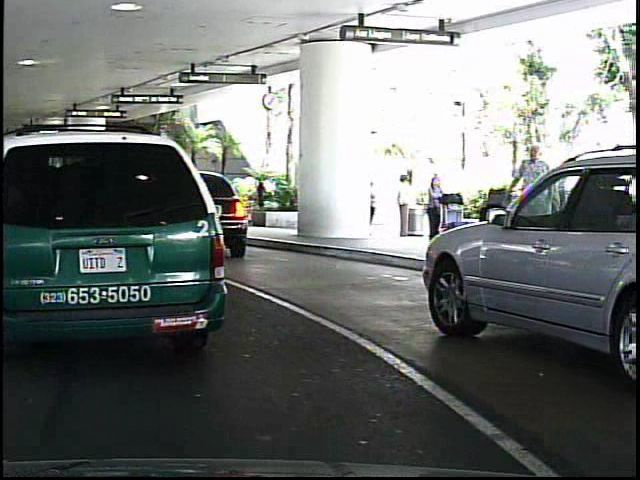person: (501, 135, 558, 275), (417, 169, 448, 241)
